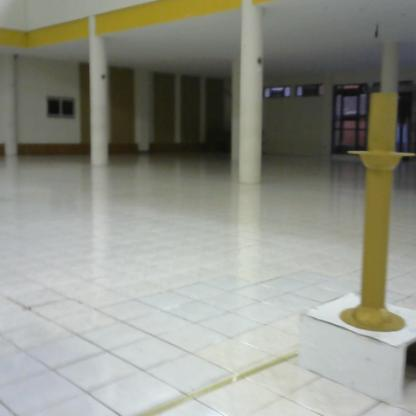pole: (339, 86, 416, 339)
